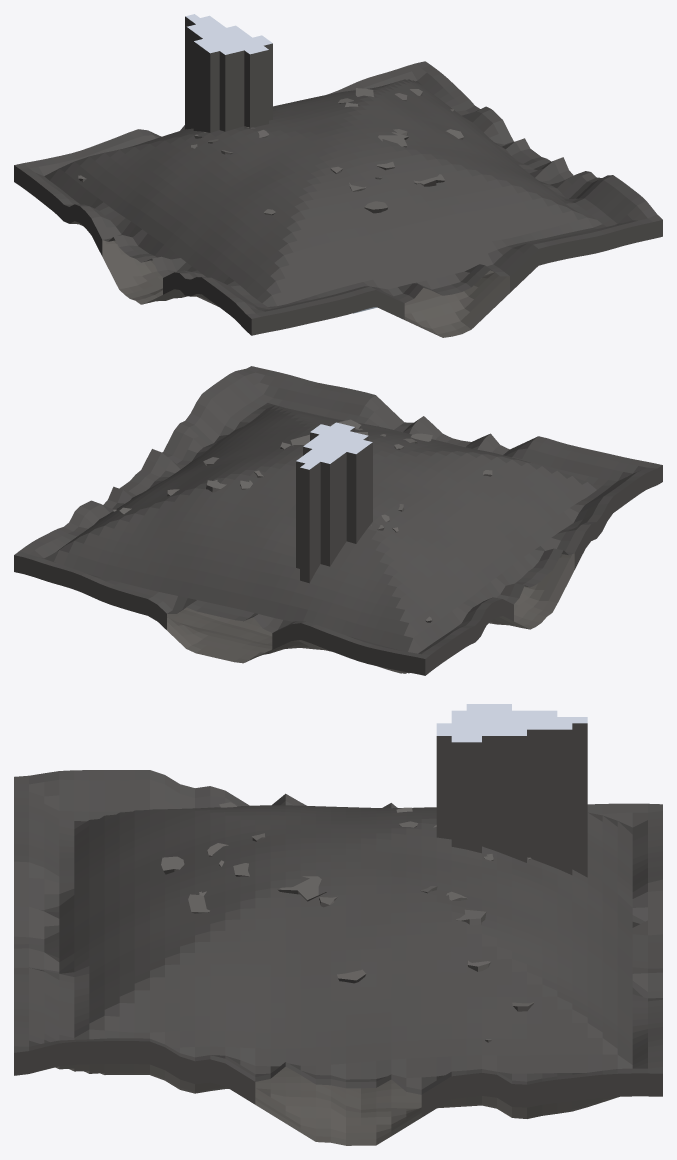
3 renders of one model, top to bottom at view 1: azimuth 30°, elevation 25°; view 2: azimuth 150°, elevation 25°; view 3: azimuth 270°, elevation 25°, orthographic. The views are drawn at different scales.
Visible parts, largest first — view 1: CavernVault, CavernWalls, CavernShaft, CavernFloor, CavernSkyCap, CavernStalactites, CavernColumns; view 2: CavernVault, CavernWalls, CavernShaft, CavernFloor, CavernSkyCap, CavernStalactites, CavernColumns; view 3: CavernVault, CavernShaft, CavernFloor, CavernWalls, CavernSkyCap, CavernStalactites, CavernColumns.
Part boxes in pixels (left/top/right/bottom): CavernVault: left=14, top=61, right=662, bottom=318; CavernWalls: left=14, top=165, right=662, bottom=335; CavernShaft: left=185, top=16, right=272, bottom=132; CavernFloor: left=69, top=221, right=509, bottom=337; CavernSkyCap: left=185, top=14, right=272, bottom=54; CavernStalactites: left=78, top=89, right=463, bottom=215; CavernColumns: left=355, top=88, right=445, bottom=213; CavernVault: left=14, top=366, right=662, bottom=658; CavernWalls: left=14, top=465, right=662, bottom=675; CavernShaft: left=296, top=427, right=372, bottom=583; CavernFloor: left=167, top=553, right=574, bottom=673; CavernSkyCap: left=296, top=422, right=372, bottom=469; CavernStalactites: left=113, top=428, right=492, bottom=622; CavernColumns: left=206, top=419, right=432, bottom=492; CavernVault: left=14, top=770, right=662, bottom=1094; CavernShaft: left=436, top=723, right=587, bottom=877; CavernFloor: left=55, top=1064, right=619, bottom=1145; CavernWalls: left=14, top=1041, right=662, bottom=1117; CavernSkyCap: left=436, top=704, right=587, bottom=742; CavernStalactites: left=199, top=802, right=534, bottom=1042; CavernColumns: left=161, top=856, right=486, bottom=925.
Bounding box in the file's own units: 92 × 43.04 × 92.
